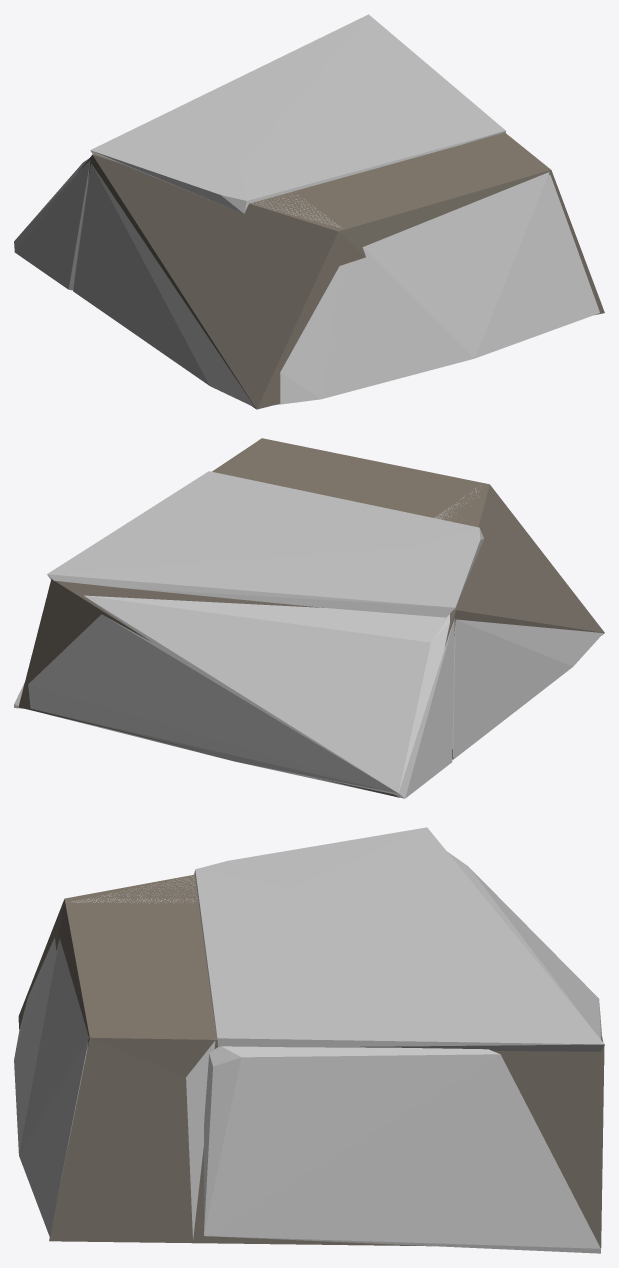
The model's file is SM_Env_Footpath_Stone_01.fbx.
3 renders of one model, top to bottom at view 1: azimuth 30°, elevation 25°; view 2: azimuth 150°, elevation 25°; view 3: azimuth 270°, elevation 25°, orthographic. The views are drawn at different scales.
Visible parts, largest first — view 1: SM_Env_Footpath_Stone_01_ConvexHulls, SM_Env_Footpath_Stone_01; view 2: SM_Env_Footpath_Stone_01_ConvexHulls, SM_Env_Footpath_Stone_01; view 3: SM_Env_Footpath_Stone_01_ConvexHulls, SM_Env_Footpath_Stone_01.
Boxes of the visible parts, <box> form: SM_Env_Footpath_Stone_01_ConvexHulls: <box>14,14,599,407</box>; SM_Env_Footpath_Stone_01: <box>78,132,604,409</box>; SM_Env_Footpath_Stone_01_ConvexHulls: <box>14,471,603,798</box>; SM_Env_Footpath_Stone_01: <box>18,438,604,797</box>; SM_Env_Footpath_Stone_01_ConvexHulls: <box>14,827,604,1253</box>; SM_Env_Footpath_Stone_01: <box>18,874,604,1247</box>.
Bounding box in the file's own units: 64.92 × 65.71 × 23.28.
Materials: 2 (1 with a texture image).
